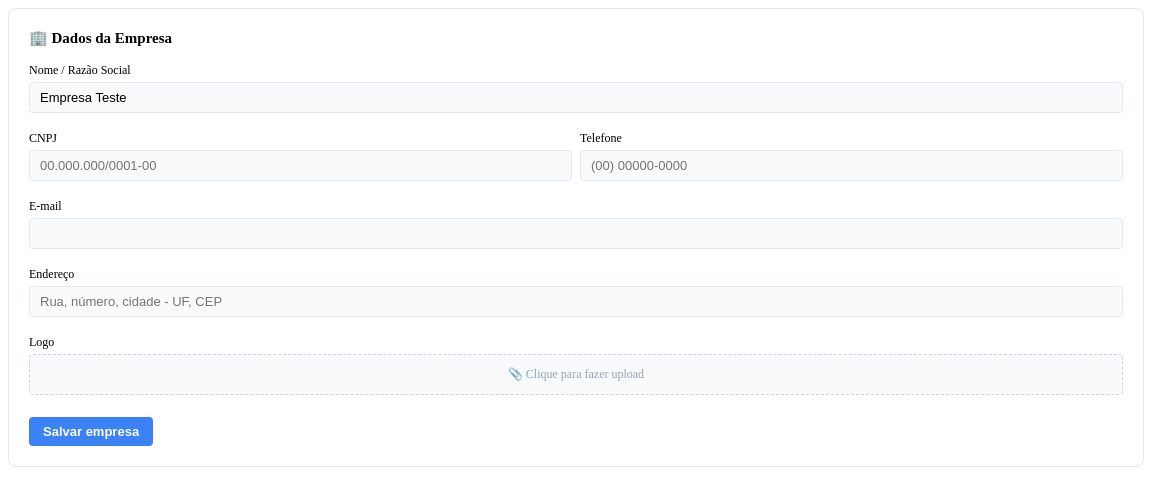
it: EmpresaCard — validação › shows error for invalid CNPJ
In the field with placeholder "00.000.000/0001-00": (300, 166) [29, 150, 572, 181], type "11111111111111"
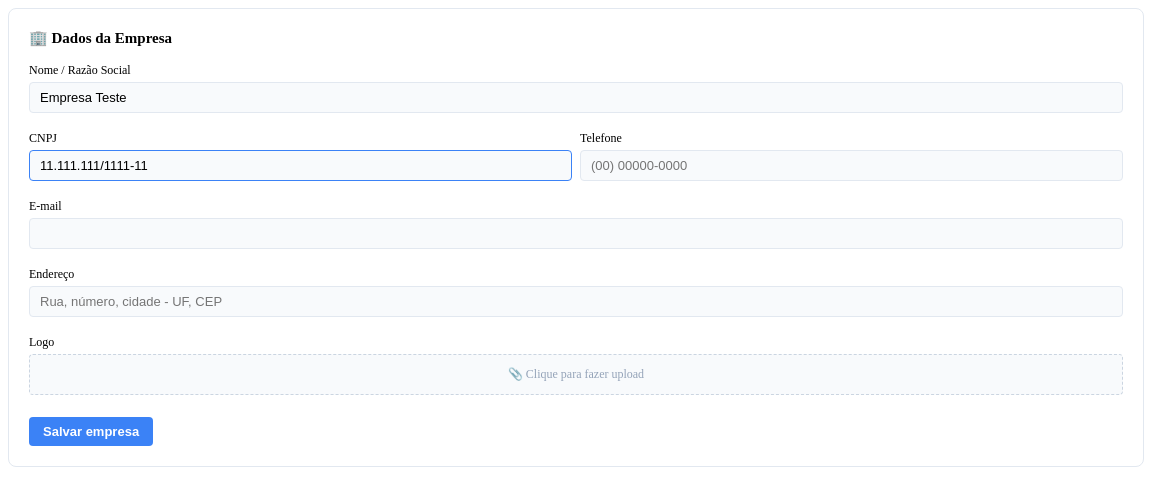
Click the button "Salvar empresa": (91, 432) [29, 417, 153, 446]
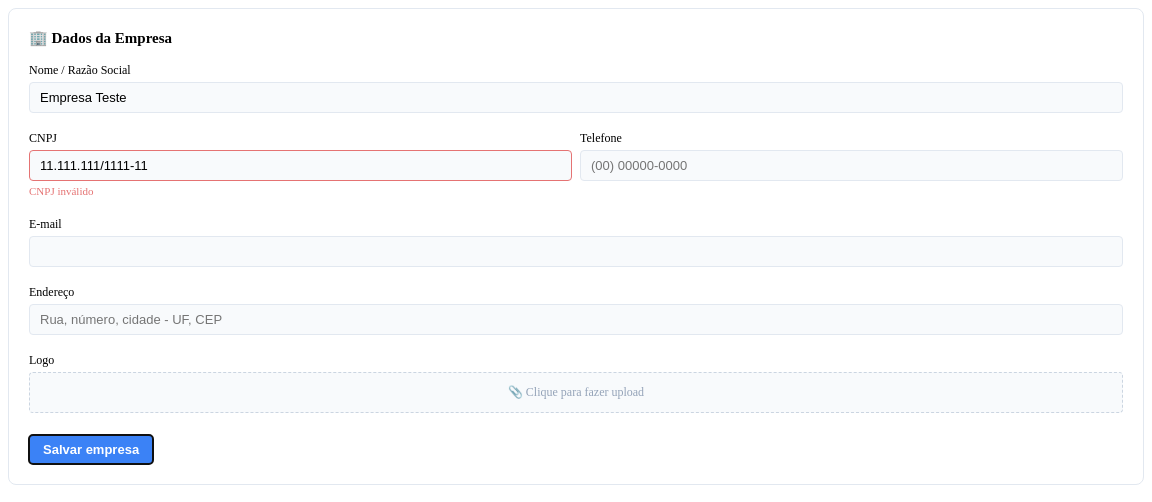
Check: the text "CNPJ inválido" is shown, box [29, 185, 94, 197]
